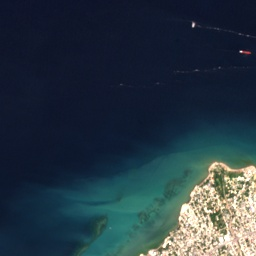Marine Debris: (173, 66, 222, 74), (117, 82, 147, 89), (206, 26, 235, 33), (236, 32, 256, 40), (190, 21, 197, 29), (155, 81, 161, 86)
Ship: (238, 48, 253, 56)
